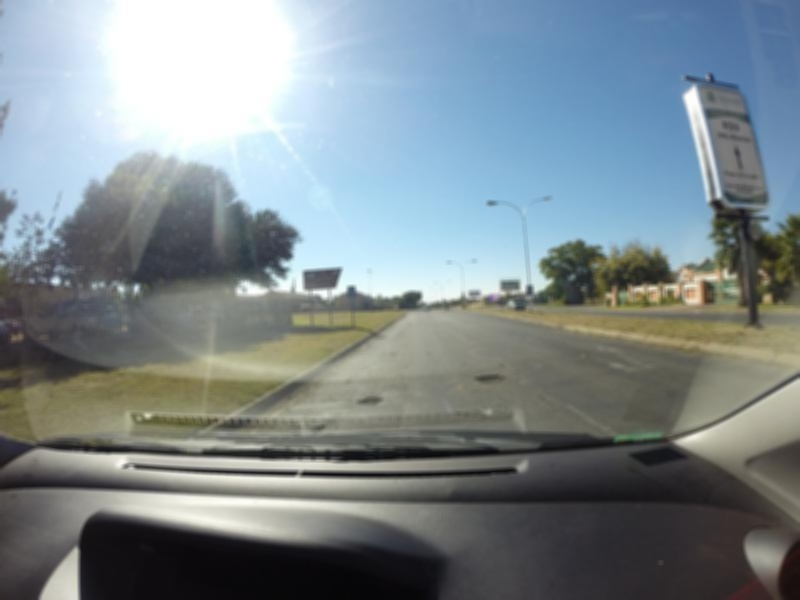pothole: (470, 370, 526, 394), (351, 388, 395, 407), (302, 417, 337, 432)
